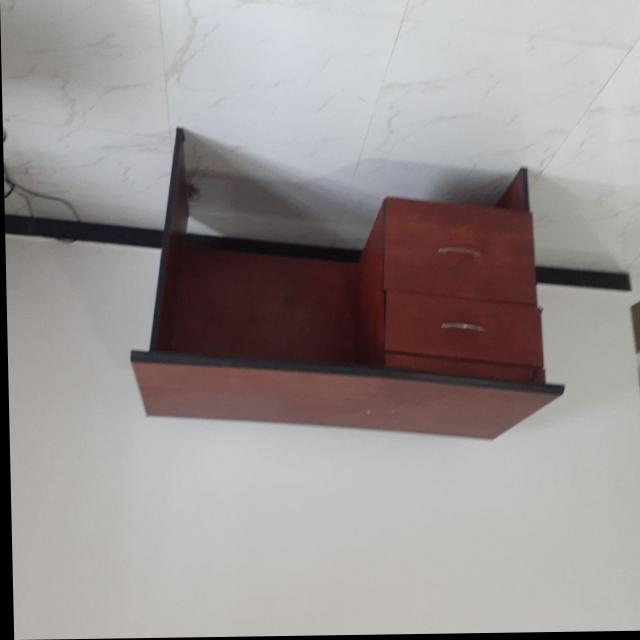Table: (111, 105, 581, 453)
